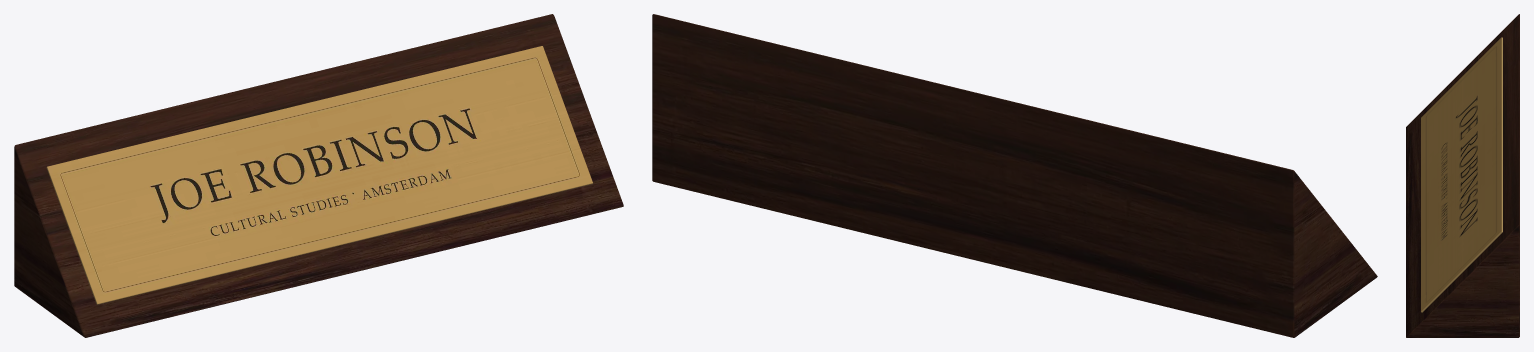
File: nameplate.glb
3 renders of one model, left to right at view 1: azimuth 30°, elevation 25°; view 2: azimuth 150°, elevation 25°; view 3: azimuth 270°, elevation 25°, orthographic. The views are drawn at different scales.
Parts seen in each view (by area): view 1: Plate, Block; view 2: Block; view 3: Plate, Block.
Part boxes in pixels (bbox=[...]): Plate: bbox=[46, 46, 592, 304]; Block: bbox=[14, 14, 623, 337]; Block: bbox=[652, 14, 1377, 337]; Plate: bbox=[1421, 37, 1502, 312]; Block: bbox=[1406, 14, 1519, 337].
Bounding box in the file's own units: 0.22 × 0.055 × 0.05.
Materials: 3 (2 with a texture image).
